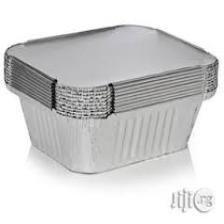metal: (5, 25, 224, 190)
